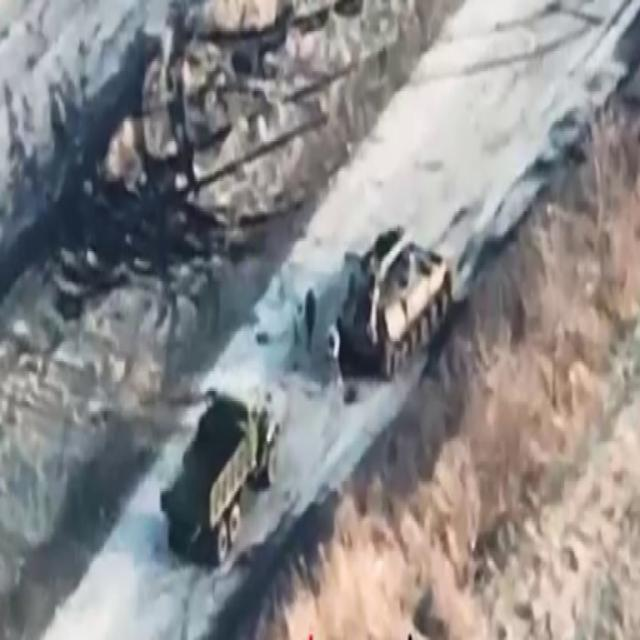APC-IFV: (334, 222, 450, 382)
TRUCK: (156, 384, 272, 559)
